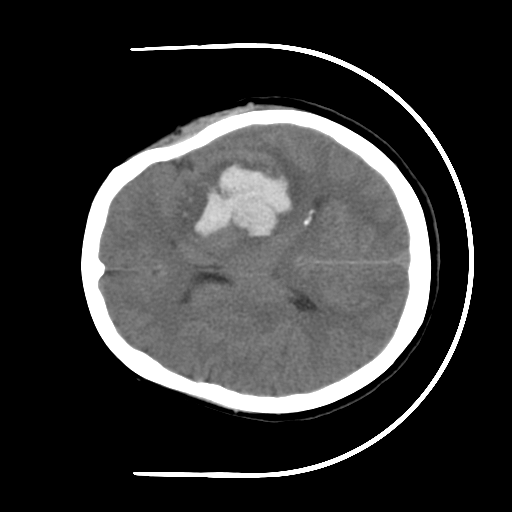a: (160, 137, 316, 254)
